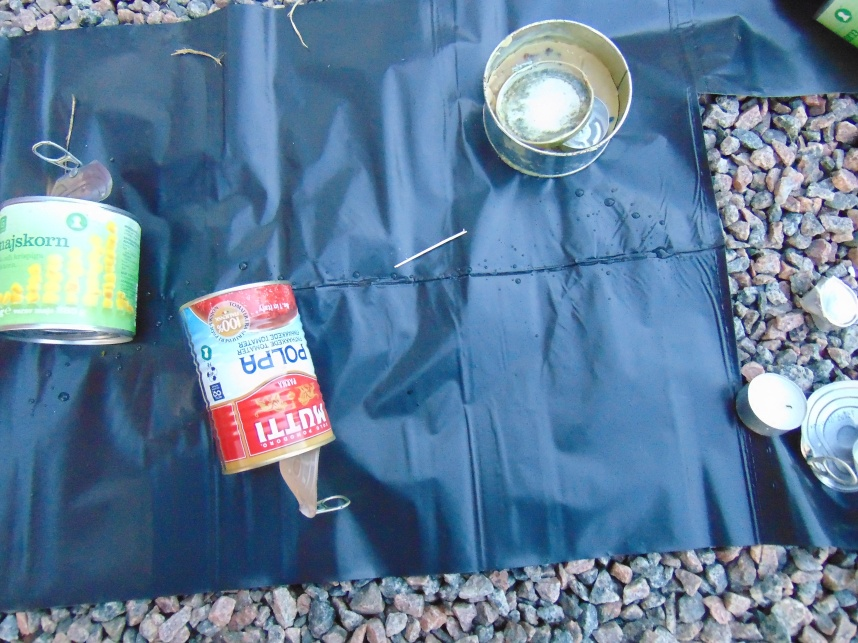metal: (493, 61, 591, 144), (799, 377, 858, 495), (28, 133, 118, 206), (735, 371, 806, 439), (800, 276, 854, 334), (560, 99, 612, 149)
metal_can: (179, 280, 338, 474), (477, 17, 632, 178), (1, 195, 144, 348)
